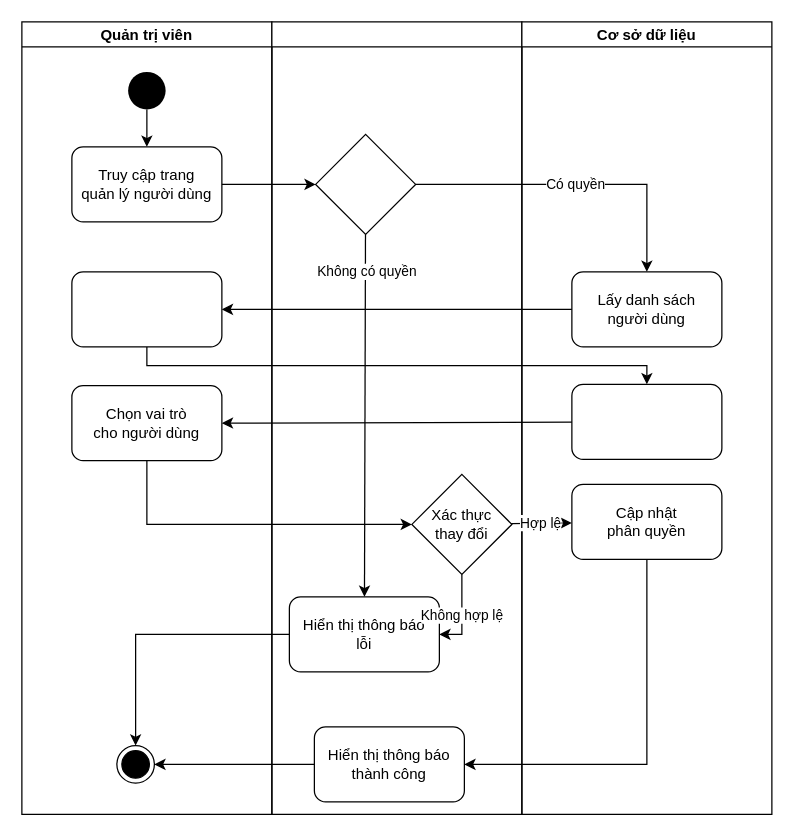
Image size: 794x836. Some labels were removed from this diagram. The box of each missing label's shape, as (x1, y1, x2, y2) in pixels:
Chọn người dùng cần phân quyền: (71, 271, 222, 347)
Hệ thống: (271, 21, 522, 814)
Kiểm tra quyền truy cập: (314, 133, 416, 234)
Lấy danh sách vai trò: (571, 383, 722, 459)
